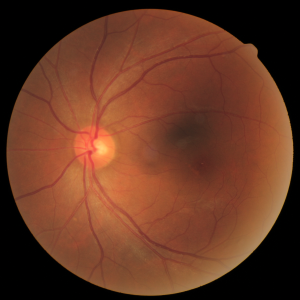healthy_eye: (34, 88, 250, 200)
